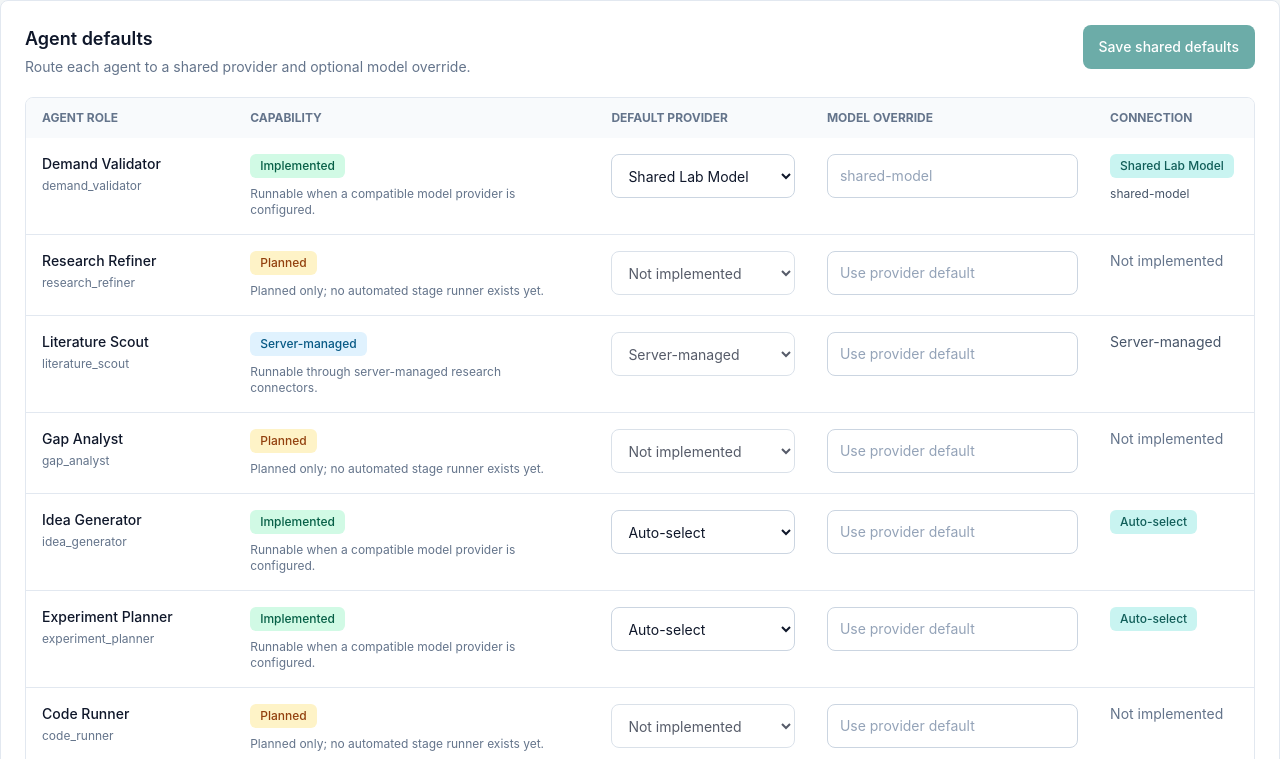
Test: AgentAssignmentMatrix › reloads after partial failure and names only the failed role
The width and height of the screenshot is (1280, 759).
Type "shared-model-mini" into the field named "Demand Validator Model override".
click(952, 176); type("shared-model-mini")  # box x1=827 y1=154 x2=1078 y2=198
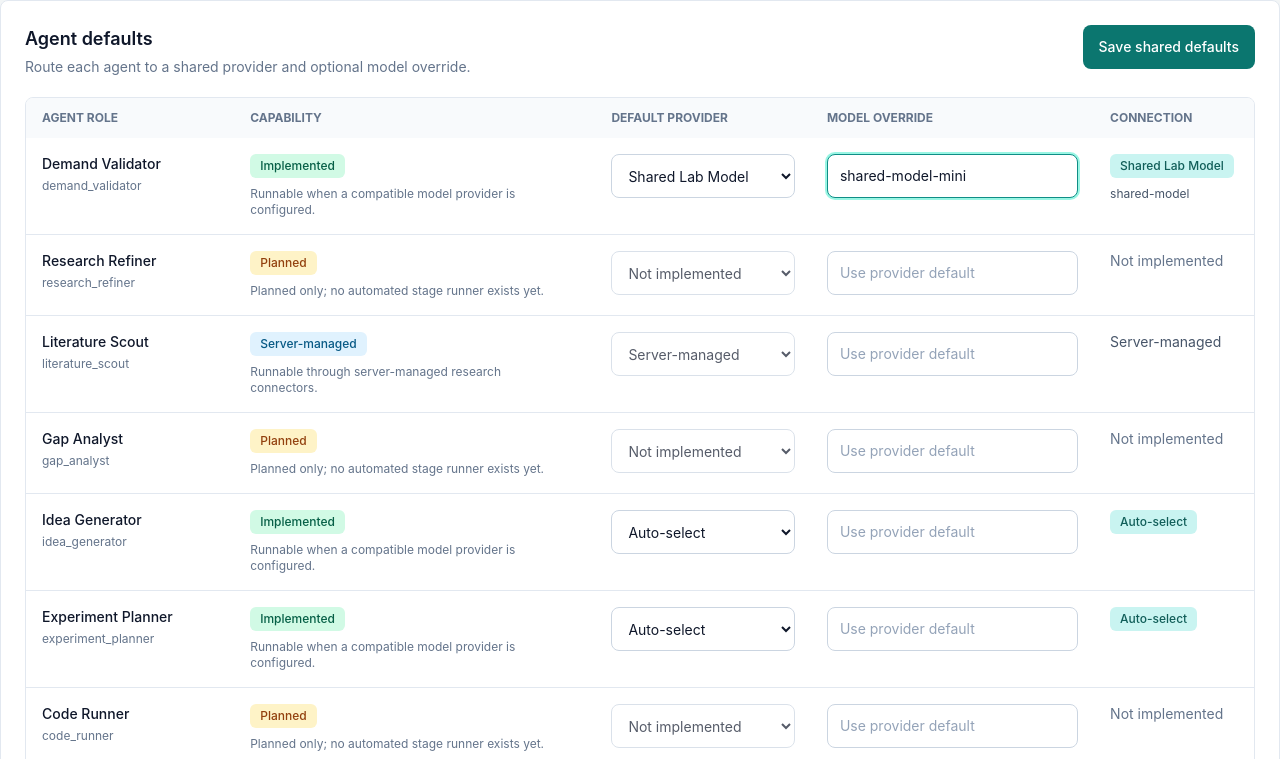
Select "Shared Lab Model" in the dropdown named "Idea Generator Default provider" at x=703, y=532, box x1=611 y1=510 x2=795 y2=554
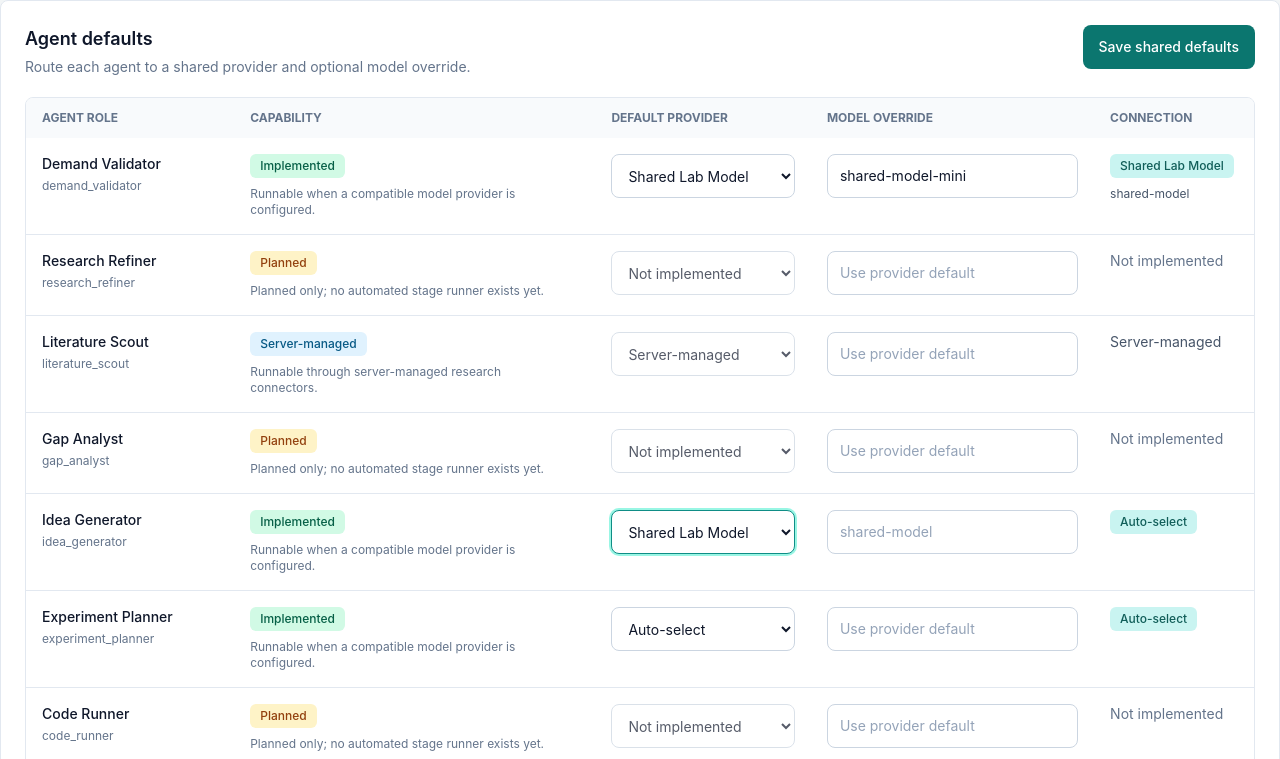
Click the button "Save shared defaults".
click(1169, 47)  # box x1=1083 y1=25 x2=1255 y2=69
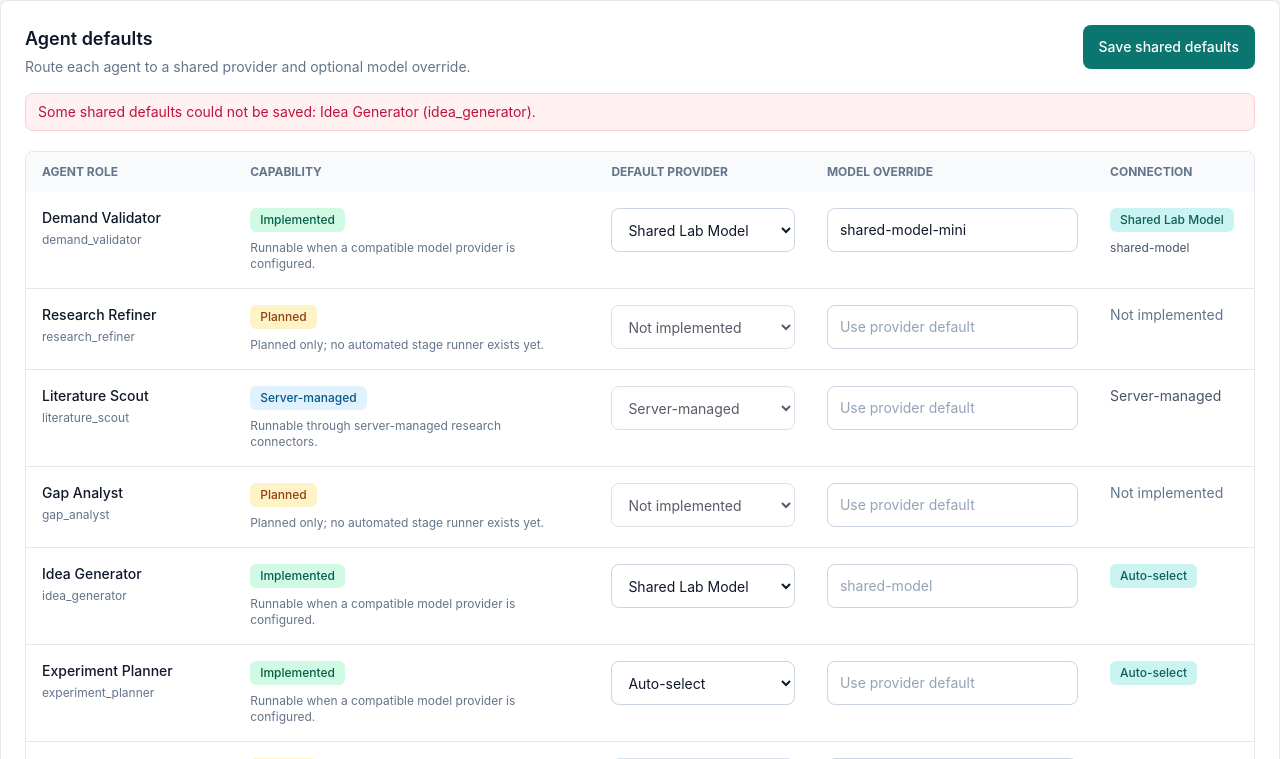
Expected: the message does not show "Demand Validator (demand_validator)", x1=25 y1=93 x2=1255 y2=131
Now the message shows "Idea Generator (idea_generator)", box x1=38 y1=103 x2=536 y2=120
